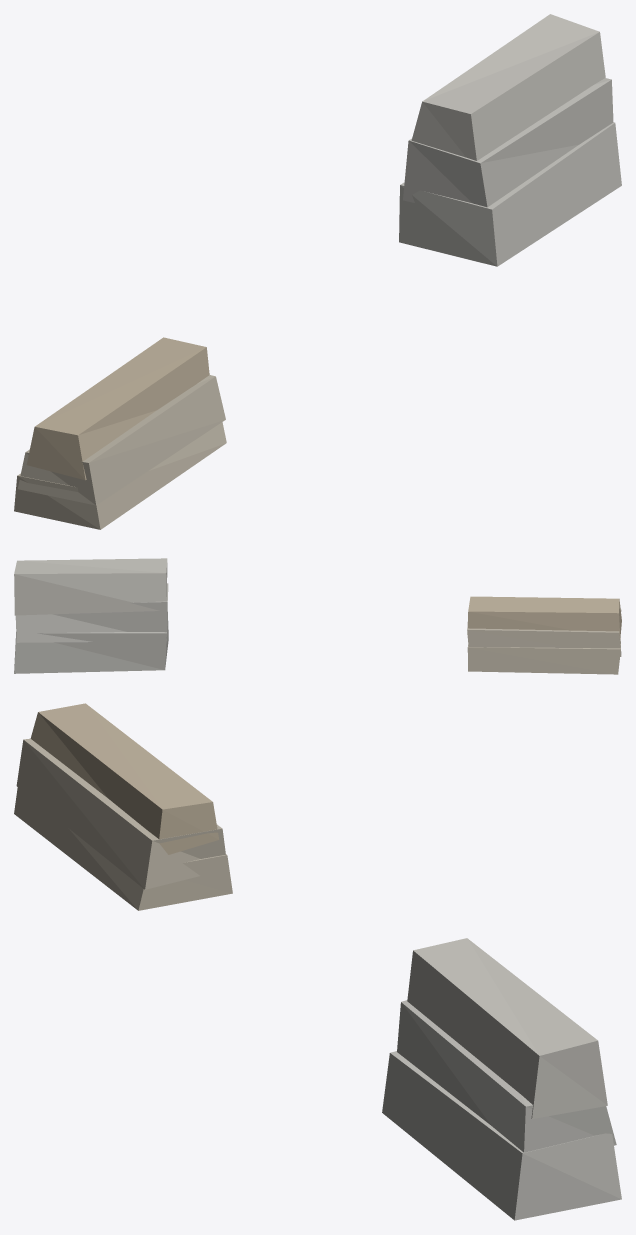
Rendered from farm_-29_-22_mid.glb.
3 views of the same model, one above another, from view 1: azimuth 30°, elevation 25°; view 2: azimuth 150°, elevation 25°; view 3: azimuth 270°, elevation 25° (orthographic). The views are drawn at different scales.
Parts seen in each view (by area): view 1: geometry_0; view 2: geometry_0; view 3: geometry_0.
Boxes of the visible parts, left/top/right/bottom form: geometry_0: left=14, top=14, right=621, bottom=529; geometry_0: left=14, top=558, right=621, bottom=674; geometry_0: left=14, top=703, right=621, bottom=1220.
Size of the model in its own units: 5.82 by 1.09 by 3.57.
